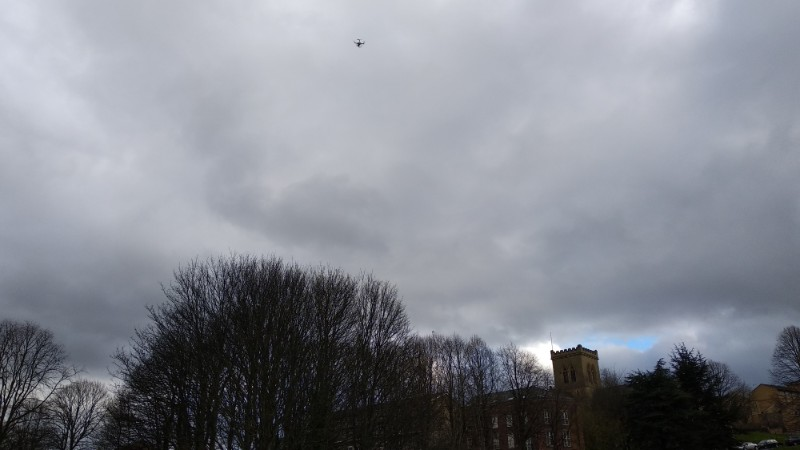drone: (353, 38, 367, 46)
